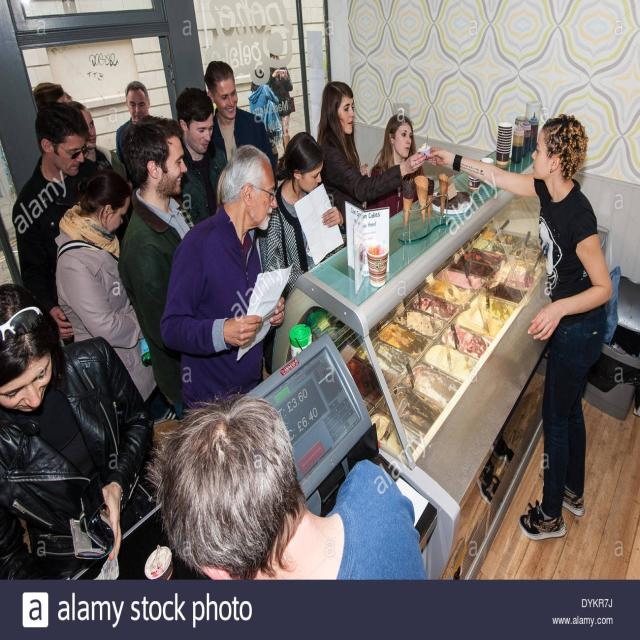body: (427, 106, 616, 543), (154, 391, 429, 582), (0, 282, 162, 580), (158, 143, 294, 413), (54, 167, 179, 423), (9, 97, 130, 347), (115, 113, 198, 426), (258, 131, 348, 375), (315, 78, 427, 265), (203, 59, 278, 184), (174, 85, 230, 229), (365, 114, 425, 218), (251, 47, 298, 166), (64, 100, 114, 179), (115, 79, 156, 166), (31, 80, 72, 119)
